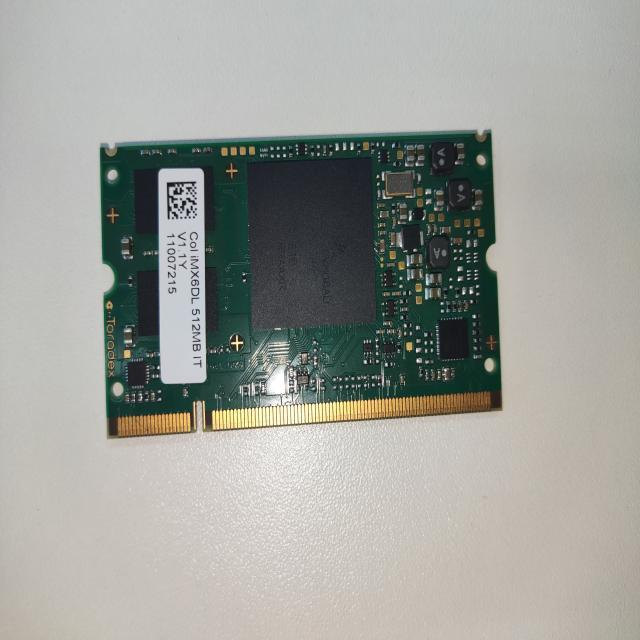som: (93, 124, 512, 441)
